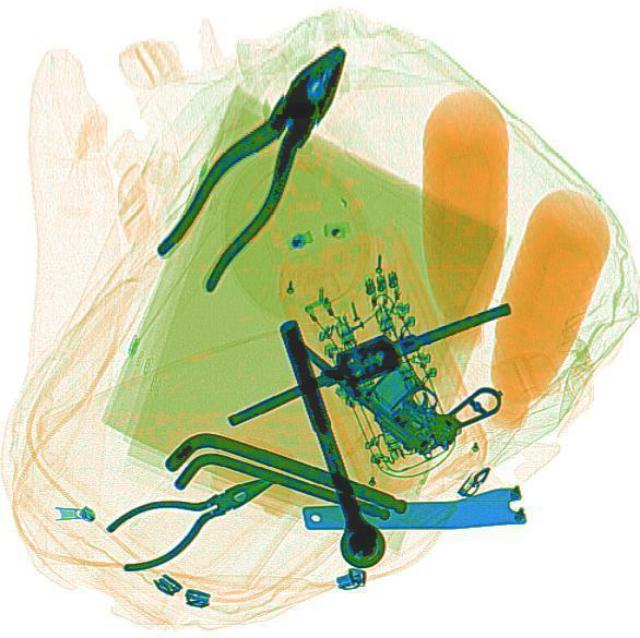Gun: (274, 261, 506, 469)
Pliers: (146, 25, 376, 294), (96, 451, 288, 576)
